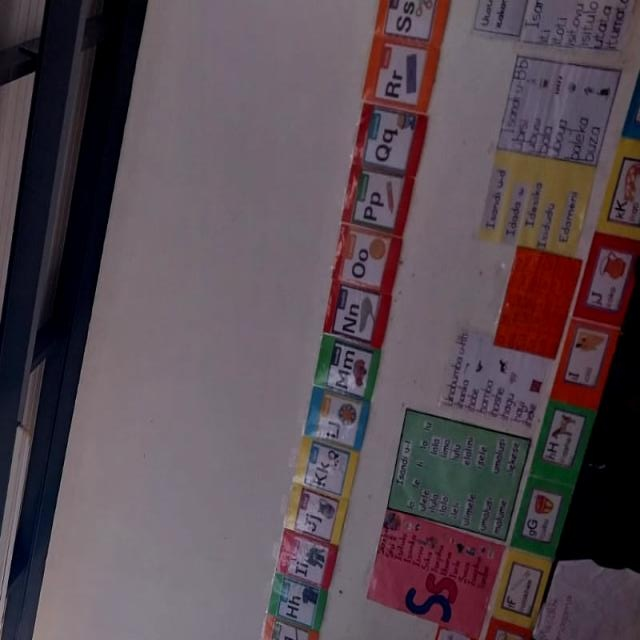fluorescent tube: (0, 403, 58, 640)
